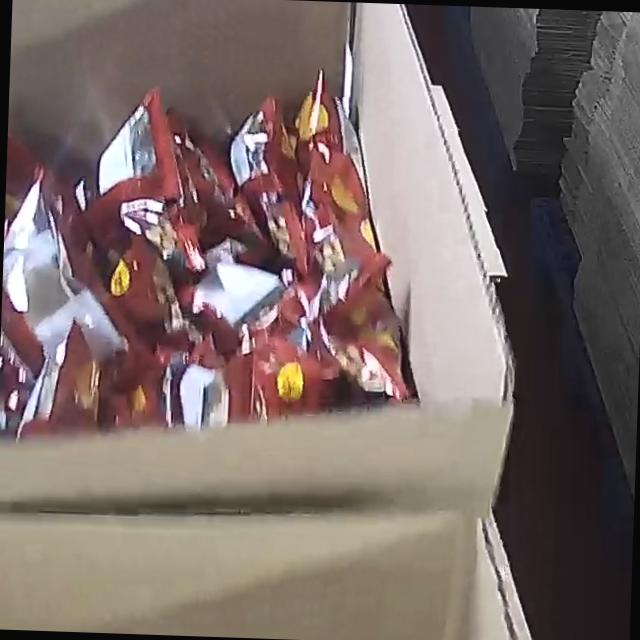masala: (0, 57, 421, 469)
